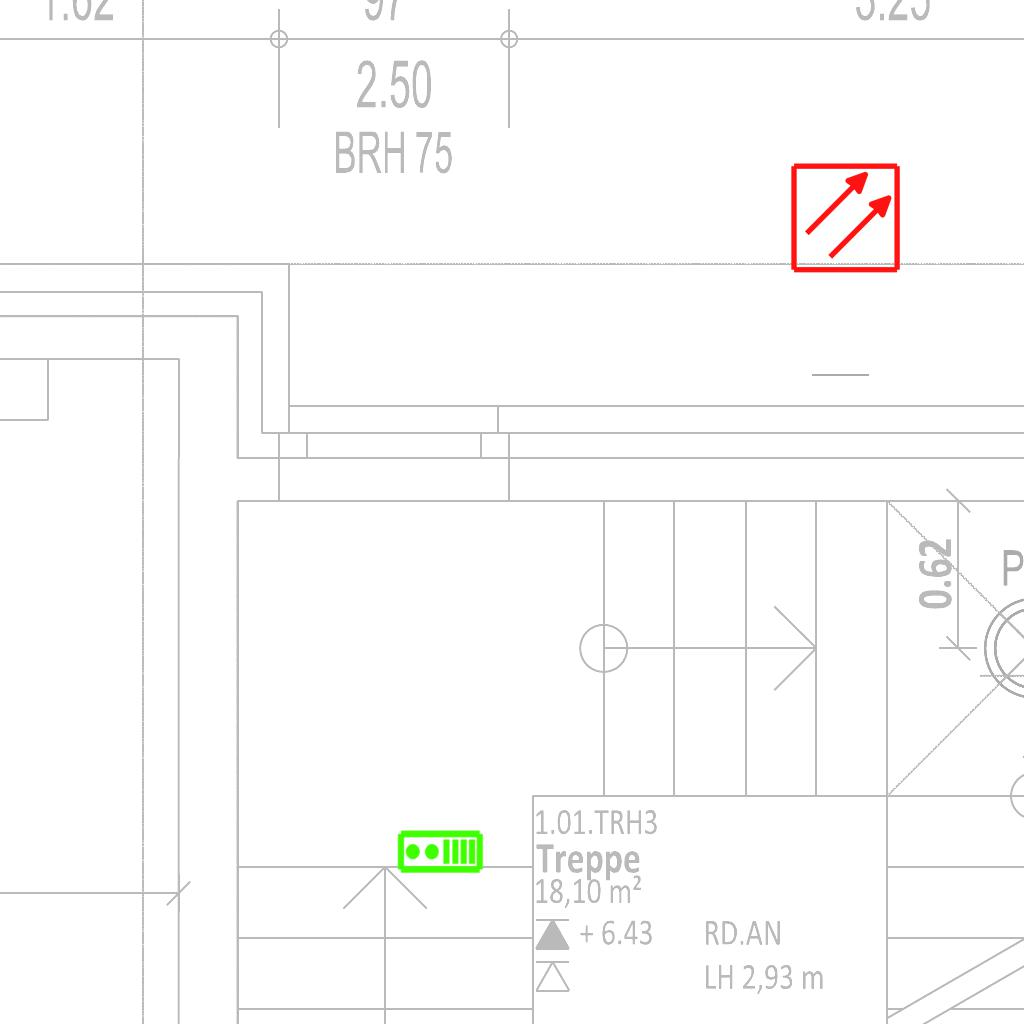Gegensprechanlage_mit_Video: (396, 829, 484, 876)
RMO_Rauchmelder_optischer: (789, 161, 902, 274)
